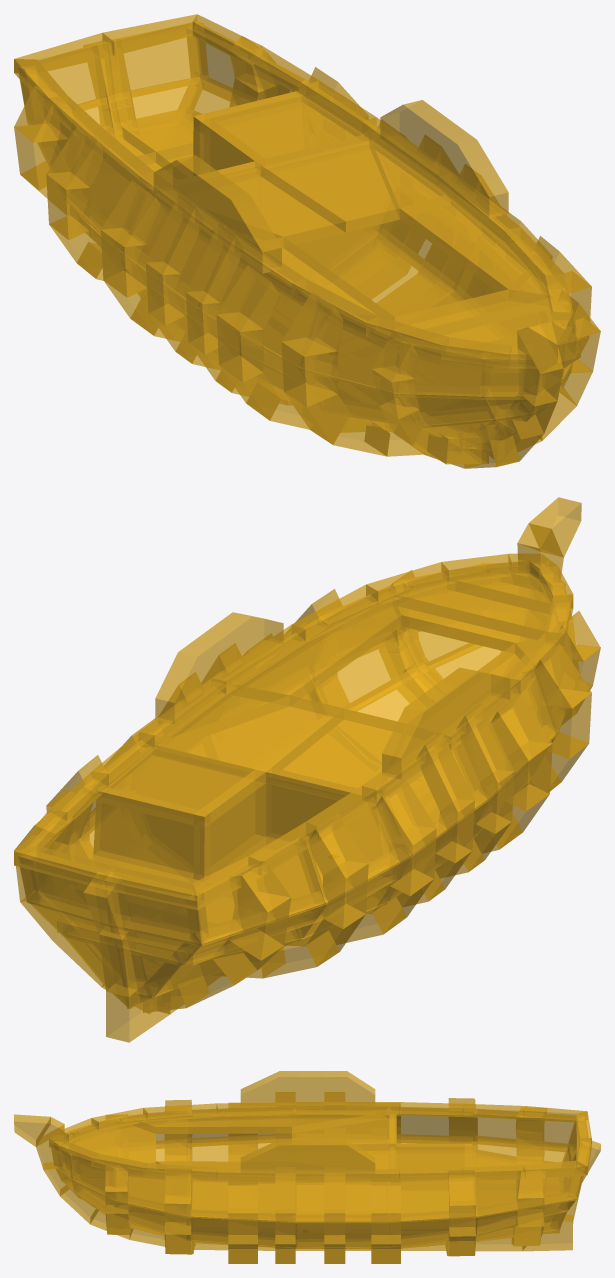
File: SM_Veh_Ship_S_Hull_02_Collision.fbx
3 views of the same model, one above another, from view 1: azimuth 30°, elevation 25°; view 2: azimuth 150°, elevation 25°; view 3: azimuth 270°, elevation 25° (orthographic). The views are drawn at different scales.
Visible parts, largest first — view 1: SM_Veh_Ship_S_Hull_02_Collision; view 2: SM_Veh_Ship_S_Hull_02_Collision; view 3: SM_Veh_Ship_S_Hull_02_Collision.
Boxes of the visible parts, box(x1,y1,x2,y2) form: SM_Veh_Ship_S_Hull_02_Collision: box(14, 14, 600, 468); SM_Veh_Ship_S_Hull_02_Collision: box(14, 497, 600, 1042); SM_Veh_Ship_S_Hull_02_Collision: box(14, 1071, 600, 1263).
Bounding box in the file's own units: 691 × 486 × 1820.
